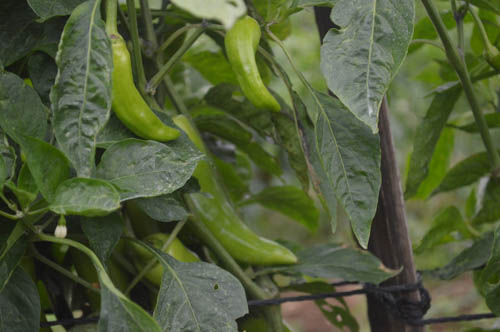ChiliPepper: (169, 116, 298, 267), (105, 40, 181, 143), (226, 17, 280, 119), (143, 234, 201, 290)
